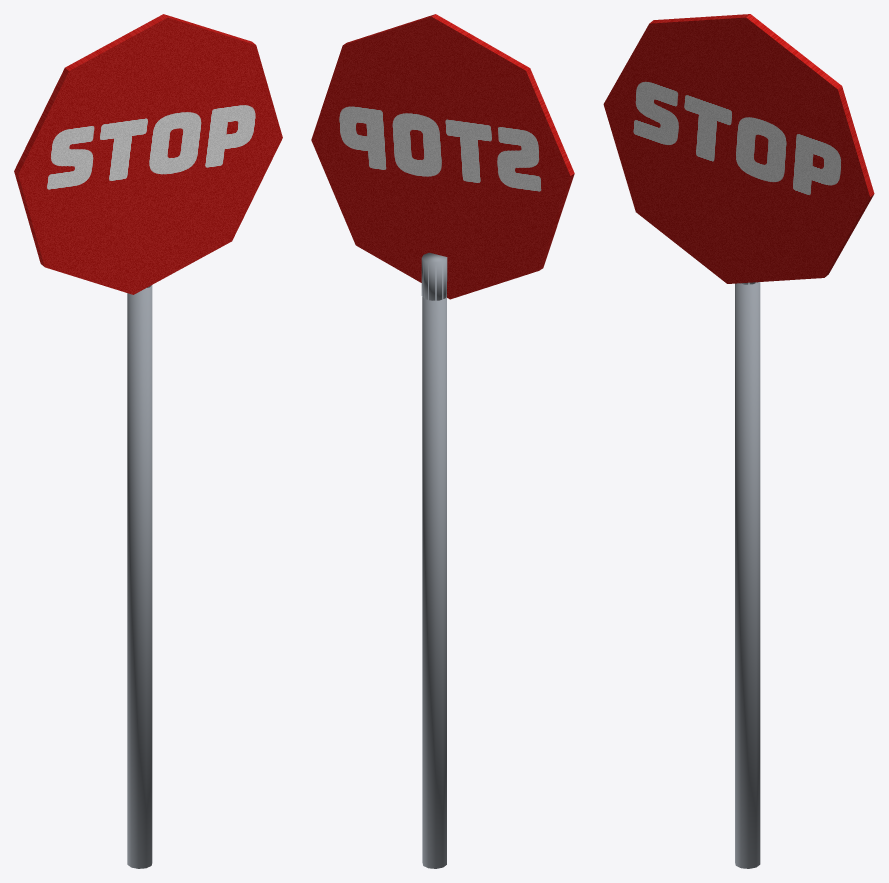
The model's file is Street_StopSign.fbx.
3 renders of one model, left to right at view 1: azimuth 30°, elevation 25°; view 2: azimuth 150°, elevation 25°; view 3: azimuth 330°, elevation 25°, orthographic. The views are drawn at different scales.
Parts seen in each view (by area): view 1: Street_StopSign; view 2: Street_StopSign; view 3: Street_StopSign.
Boxes of the visible parts, box(x1,y1,x2,y2) form: Street_StopSign: box(14, 14, 282, 868); Street_StopSign: box(311, 14, 574, 868); Street_StopSign: box(603, 14, 874, 868).
Size of the model in its own units: 0.7165 by 2.21 by 0.098.
2 materials, 1 textured.
